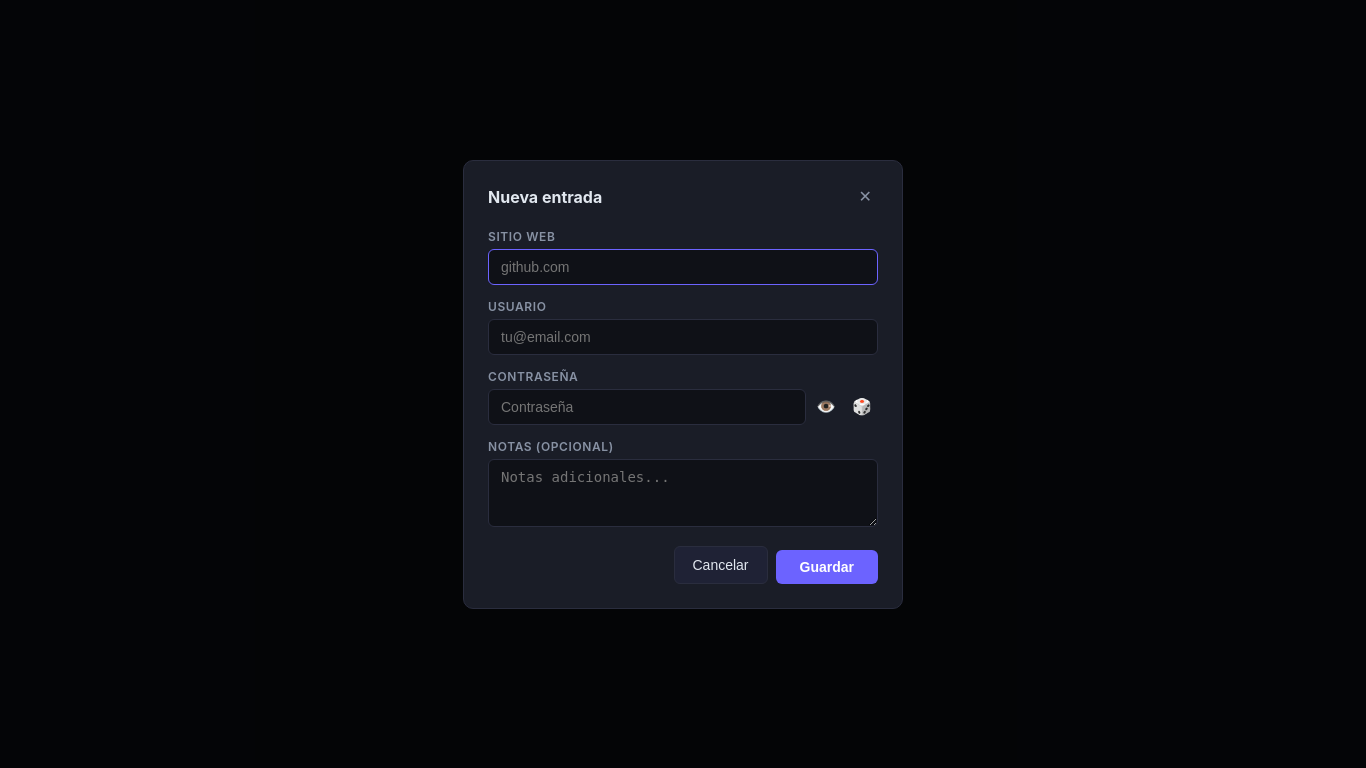
EntryForm › fills and reveals a generated password
What coordinates should you click on to do the following:
click the button titled "Generar contraseña segura"
I would click on:
 (862, 406)
Its box is [846,394,878,418].
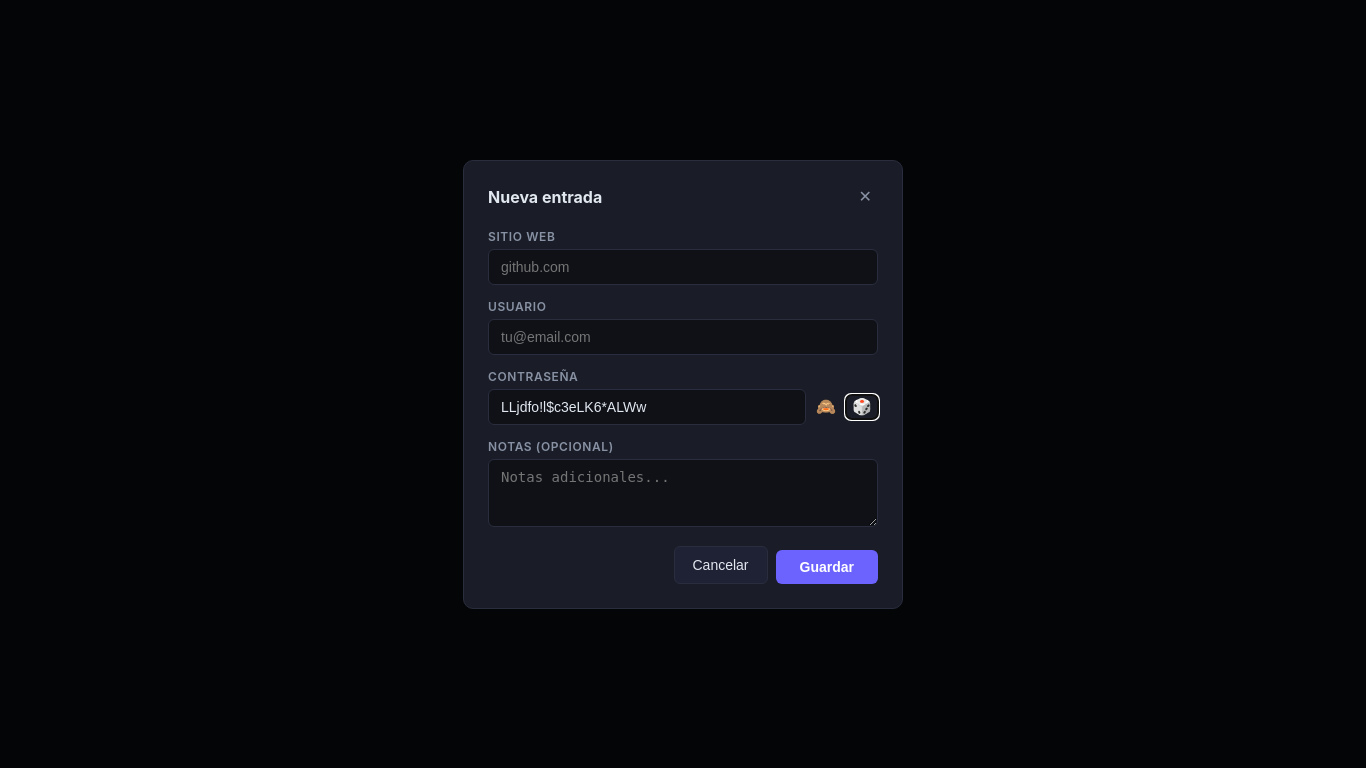
Result: the field labelled "Contraseña" shows its text at [488,388,806,424]
